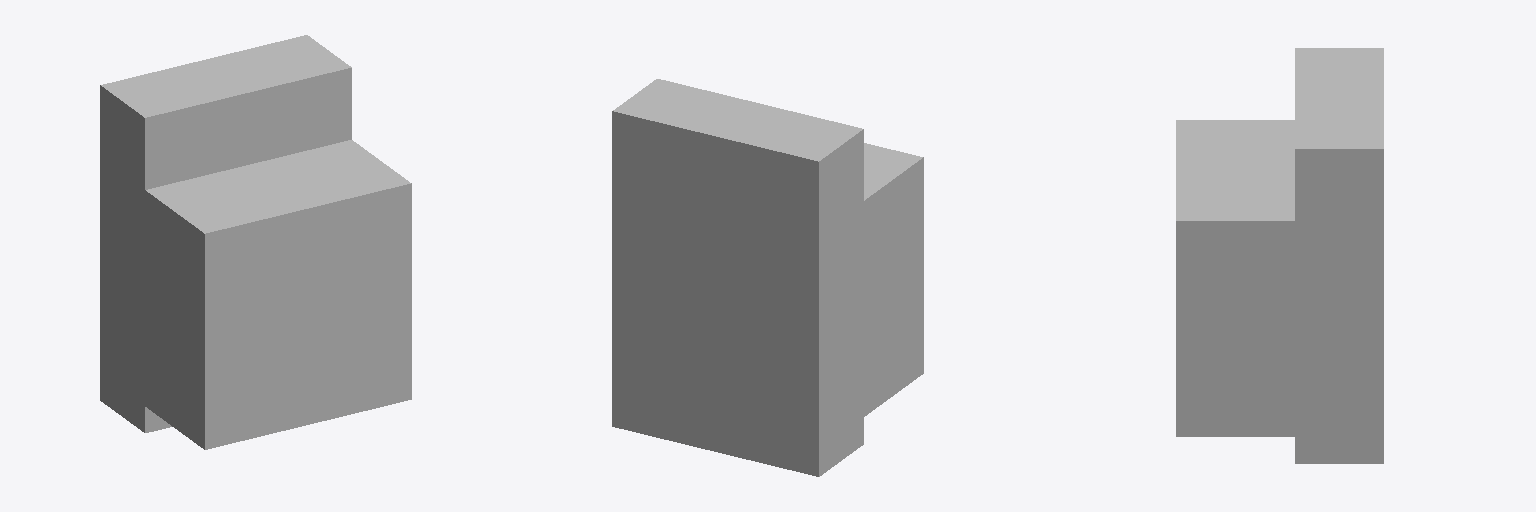
Rendered from wood_body_big.obj.
3 renders of one model, left to right at view 1: azimuth 30°, elevation 25°; view 2: azimuth 150°, elevation 25°; view 3: azimuth 270°, elevation 25°, orthographic.
Visible parts, largest first — view 1: Vehicle_Plane.001; view 2: Vehicle_Plane.001; view 3: Vehicle_Plane.001.
Part boxes in pixels (left/top/right/bottom): Vehicle_Plane.001: left=100, top=35, right=411, bottom=449; Vehicle_Plane.001: left=612, top=79, right=923, bottom=476; Vehicle_Plane.001: left=1176, top=48, right=1383, bottom=463.
Bounding box in the file's own units: 1.5 × 2.19 × 1.31.